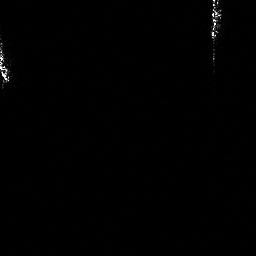ship: (209, 1, 224, 67), (1, 32, 11, 85)
